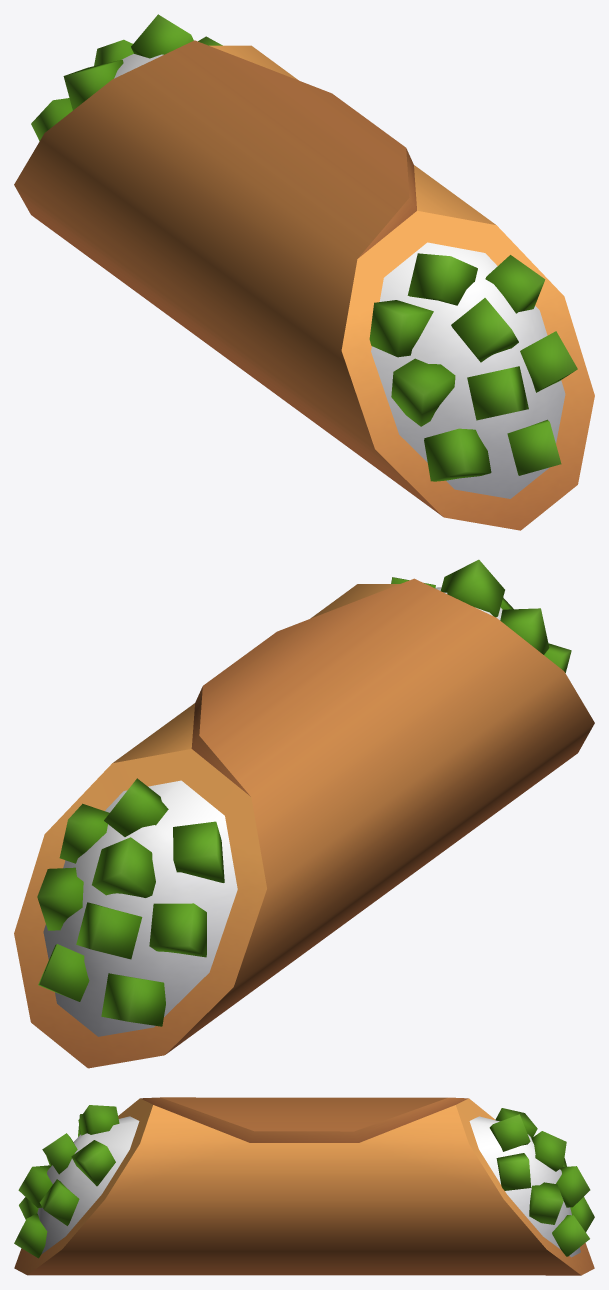
The model's file is m_Cannoli02.fbx.
3 views of the same model, one above another, from view 1: azimuth 30°, elevation 25°; view 2: azimuth 150°, elevation 25°; view 3: azimuth 270°, elevation 25° (orthographic). The views are drawn at different scales.
Parts seen in each view (by area): view 1: m_Cannoli02; view 2: m_Cannoli02; view 3: m_Cannoli02.
Part boxes in pixels (x1,y1,x2,y2): m_Cannoli02: [14, 14, 594, 530]; m_Cannoli02: [14, 559, 594, 1068]; m_Cannoli02: [14, 1097, 594, 1275].
Bounding box in the file's own units: 3.13 × 3.4 × 10.53.
